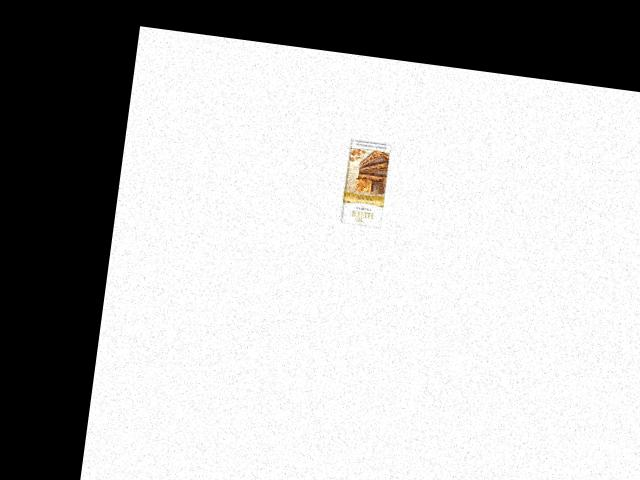chocolate: (323, 134, 400, 233)
